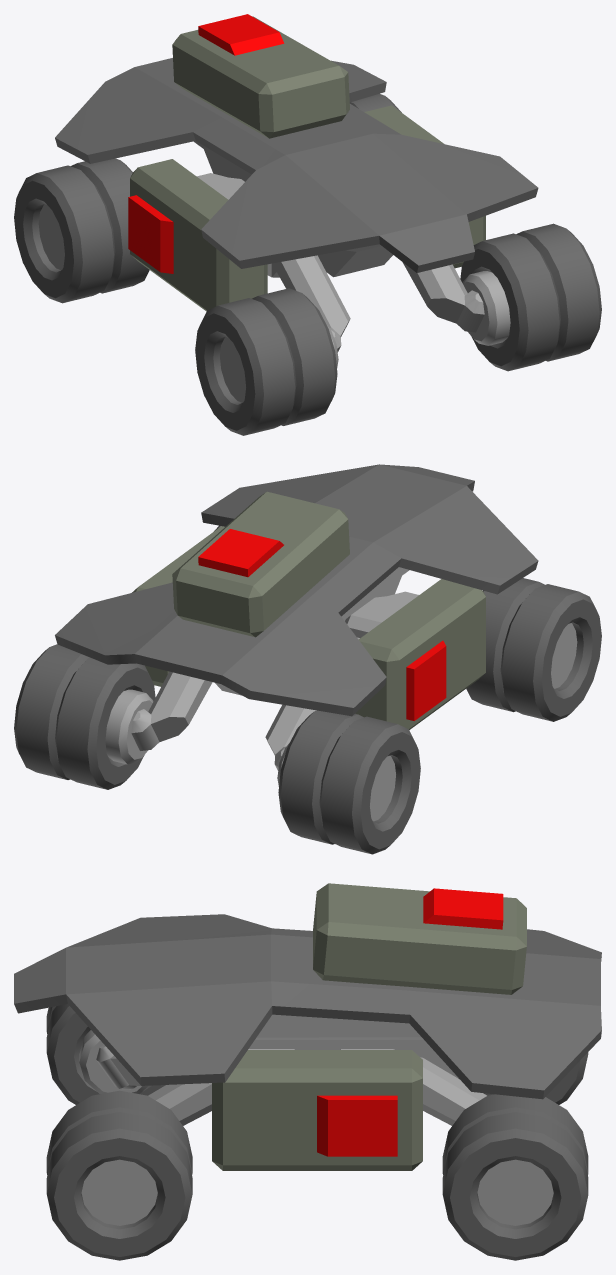
File: Kamikaze car.fbx
3 views of the same model, one above another, from view 1: azimuth 30°, elevation 25°; view 2: azimuth 150°, elevation 25°; view 3: azimuth 270°, elevation 25° (orthographic). The views are drawn at different scales.
Parts seen in each view (by area): view 1: Kamikaze_Car; view 2: Kamikaze_Car; view 3: Kamikaze_Car.
Boxes of the visible parts, <box> form: Kamikaze_Car: <box>14,14,601,435</box>; Kamikaze_Car: <box>14,464,601,854</box>; Kamikaze_Car: <box>14,883,601,1260</box>.
Size of the model in its own units: 1.43 by 0.9703 by 1.92.
